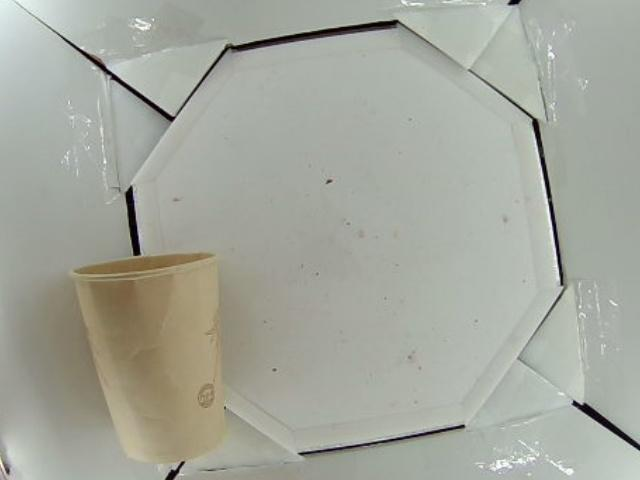Cup: (65, 254, 223, 459)
